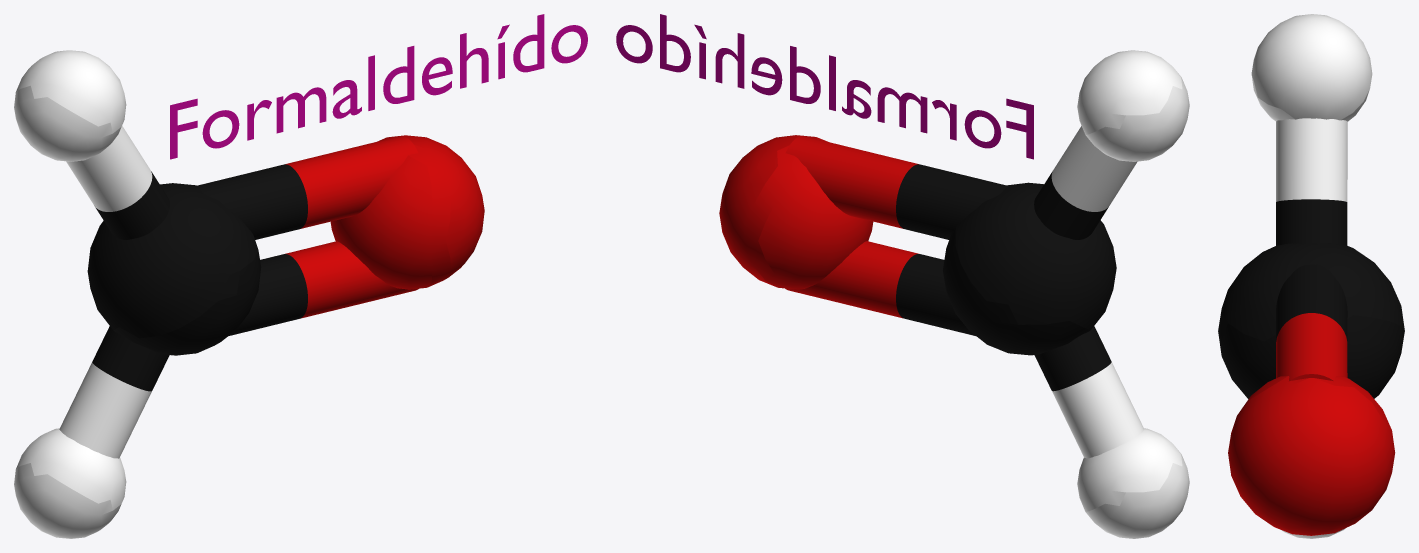
The model's file is formaldehido.obj.
3 renders of one model, left to right at view 1: azimuth 30°, elevation 25°; view 2: azimuth 150°, elevation 25°; view 3: azimuth 270°, elevation 25°, orthographic. The views are drawn at different scales.
Parts seen in each view (by area): view 1: Shape_IndexedFaceSet.008_Shape_IndexedFaceSet.433, Shape_IndexedFaceSet.006_Shape_IndexedFaceSet.432, Shape_IndexedFaceSet.013_Shape_IndexedFaceSet.434, Text_Text.055; view 2: Shape_IndexedFaceSet.008_Shape_IndexedFaceSet.433, Shape_IndexedFaceSet.006_Shape_IndexedFaceSet.432, Shape_IndexedFaceSet.013_Shape_IndexedFaceSet.434, Text_Text.055; view 3: Shape_IndexedFaceSet.013_Shape_IndexedFaceSet.434, Shape_IndexedFaceSet.008_Shape_IndexedFaceSet.433, Shape_IndexedFaceSet.006_Shape_IndexedFaceSet.432.
Boxes of the visible parts, x1,y1,x2,y2 form: Shape_IndexedFaceSet.008_Shape_IndexedFaceSet.433: (87, 164, 307, 391); Shape_IndexedFaceSet.006_Shape_IndexedFaceSet.432: (14, 50, 152, 538); Shape_IndexedFaceSet.013_Shape_IndexedFaceSet.434: (285, 135, 484, 318); Text_Text.055: (170, 14, 587, 159); Shape_IndexedFaceSet.008_Shape_IndexedFaceSet.433: (896, 164, 1116, 391); Shape_IndexedFaceSet.006_Shape_IndexedFaceSet.432: (1051, 50, 1189, 538); Shape_IndexedFaceSet.013_Shape_IndexedFaceSet.434: (719, 135, 918, 318); Text_Text.055: (616, 14, 1033, 159); Shape_IndexedFaceSet.013_Shape_IndexedFaceSet.434: (1228, 313, 1395, 535); Shape_IndexedFaceSet.008_Shape_IndexedFaceSet.433: (1218, 199, 1404, 398); Shape_IndexedFaceSet.006_Shape_IndexedFaceSet.432: (1251, 14, 1372, 538).
Size of the model in its own units: 29.4 by 23.77 by 7.82.
